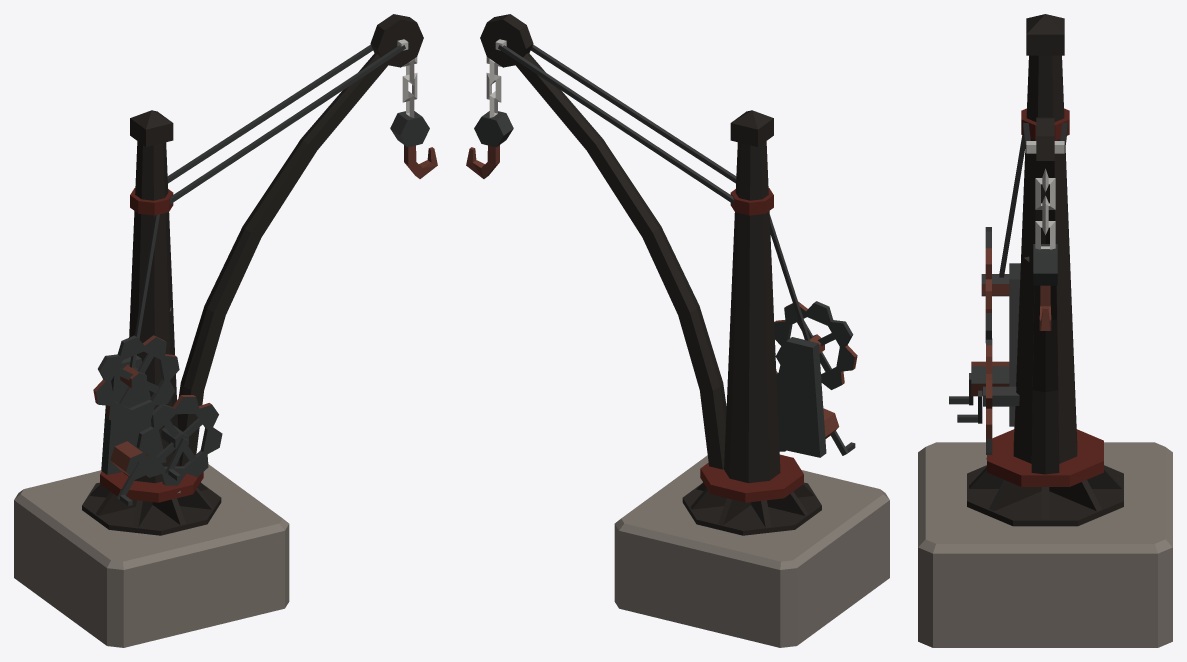
Rendered from yard-crane-316e4a.glb.
3 views of the same model, side by side, from view 1: azimuth 30°, elevation 25°; view 2: azimuth 150°, elevation 25°; view 3: azimuth 270°, elevation 25° (orthographic). The views are drawn at different scales.
Visible parts, largest first — view 1: base, upper-works, drum-mesh, spur-mesh, hook-mesh, crank-mesh; view 2: base, upper-works, drum-mesh, hook-mesh; view 3: base, upper-works, hook-mesh, spur-mesh, drum-mesh, crank-mesh.
Part boxes in pixels (x1,y1,x2,y2): base: (14, 464, 289, 647); upper-works: (101, 14, 423, 483); drum-mesh: (93, 335, 179, 424); spur-mesh: (136, 395, 222, 485); hook-mesh: (390, 57, 437, 178); crank-mesh: (110, 441, 151, 479); base: (614, 454, 889, 647); upper-works: (480, 14, 826, 483); drum-mesh: (774, 301, 857, 389); hook-mesh: (466, 57, 513, 178); base: (918, 429, 1172, 647); upper-works: (999, 14, 1077, 474); hook-mesh: (1033, 168, 1057, 330); spur-mesh: (983, 338, 1019, 454); drum-mesh: (981, 227, 1009, 342); crank-mesh: (971, 361, 1009, 396).
Bounding box in the file's own units: 4.94 × 6.45 × 2.4.
